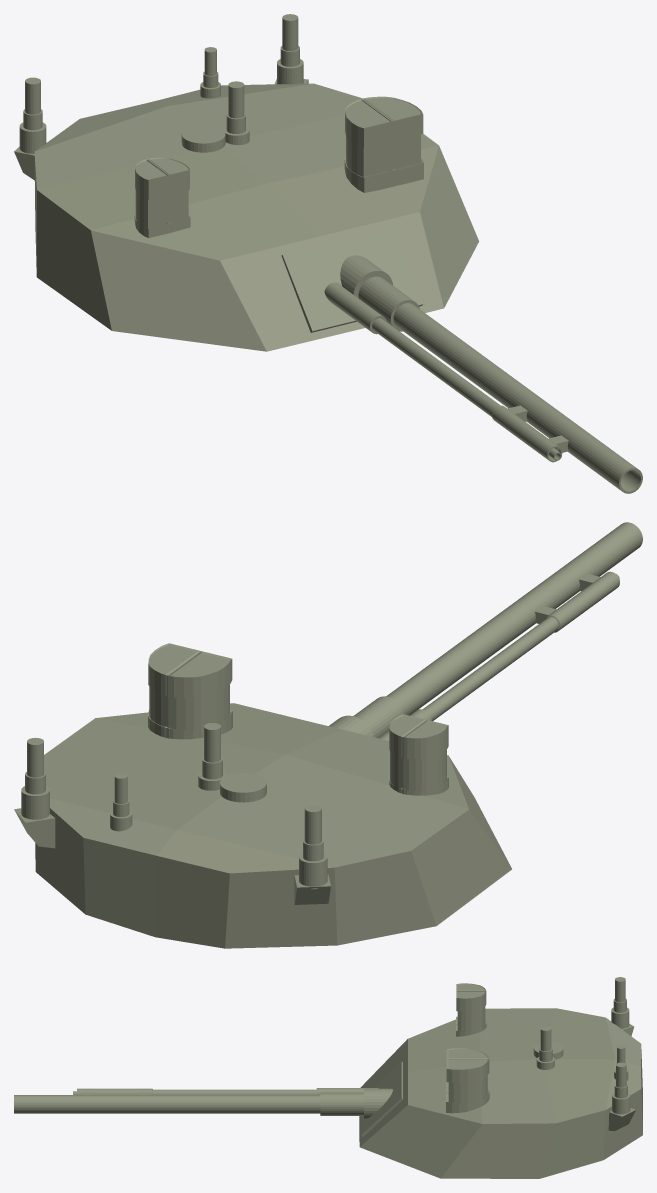
File: бэха башня.fbx
3 renders of one model, top to bottom at view 1: azimuth 30°, elevation 25°; view 2: azimuth 150°, elevation 25°; view 3: azimuth 270°, elevation 25°, orthographic. The views are drawn at different scales.
Visible parts, largest first — view 1: Turret; view 2: Turret; view 3: Turret.
Part boxes in pixels (x1,y1,x2,y2): Turret: (14, 14, 642, 493); Turret: (14, 522, 642, 948); Turret: (14, 977, 642, 1178).
Bounding box in the file's own units: 648 × 249 × 1397.
